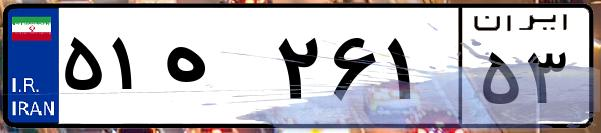1: (385, 28, 445, 110), (110, 28, 158, 98)
2: (270, 28, 330, 110)
3: (525, 38, 570, 115)
5: (57, 26, 110, 100), (475, 38, 525, 113)
6: (330, 28, 385, 110)
ه: (158, 20, 270, 120)
